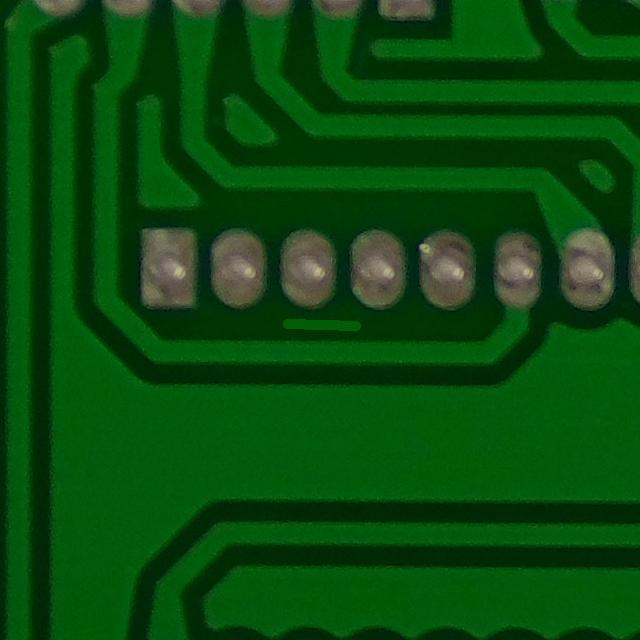spurious_copper: (271, 295, 369, 345)
